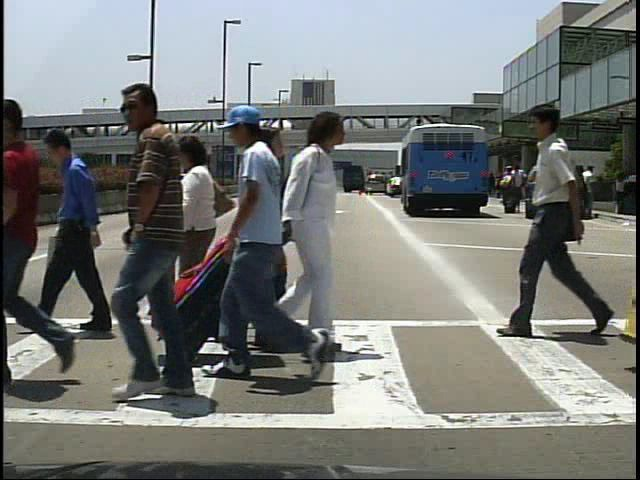person: (96, 84, 244, 416), (225, 105, 331, 387), (510, 95, 598, 340), (2, 92, 68, 390), (34, 122, 126, 335), (239, 122, 299, 361), (131, 129, 204, 322), (165, 133, 233, 328), (292, 108, 350, 333), (236, 183, 278, 345), (507, 165, 529, 215), (582, 163, 602, 218), (498, 166, 516, 219)
